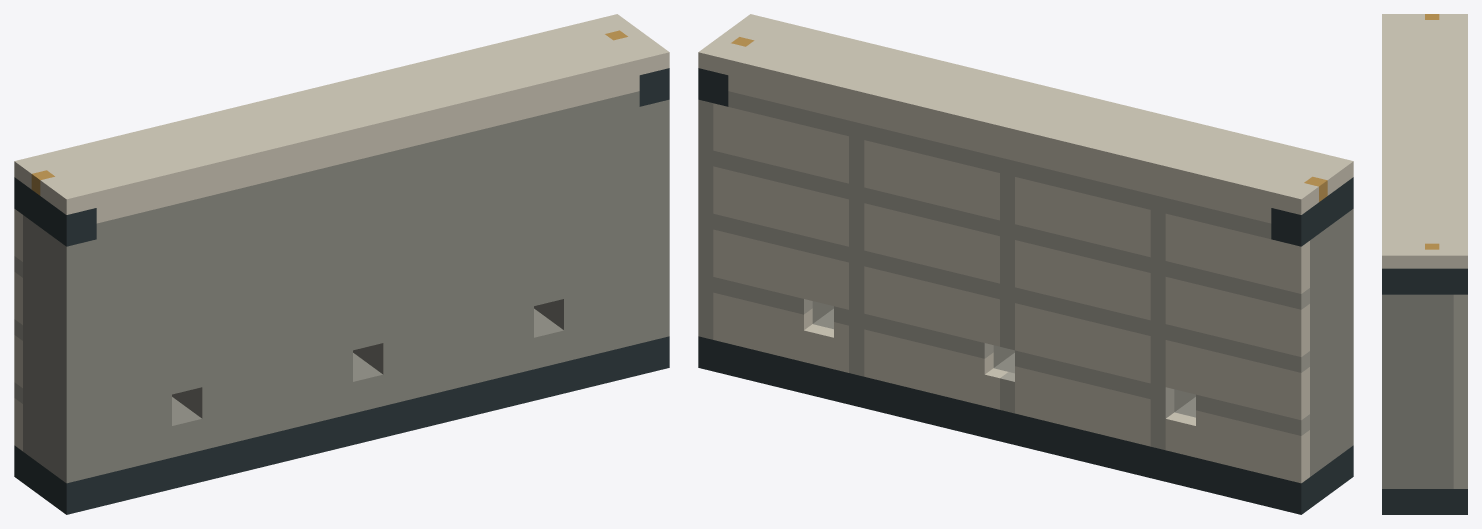
3 views of the same model, side by side, from view 1: azimuth 30°, elevation 25°; view 2: azimuth 150°, elevation 25°; view 3: azimuth 270°, elevation 25° (orthographic). The views are drawn at different scales.
Visible parts, largest first — view 1: 隔离有限台基挡土侧体; view 2: 隔离有限台基挡土侧体; view 3: 隔离有限台基挡土侧体.
Boxes of the visible parts, left/top/right/bottom form: 隔离有限台基挡土侧体: left=14, top=14, right=669, bottom=514; 隔离有限台基挡土侧体: left=698, top=14, right=1353, bottom=514; 隔离有限台基挡土侧体: left=1382, top=14, right=1467, bottom=514.
Bounding box in the file's own units: 4 × 2 × 0.6.
5 materials, 5 textured.
